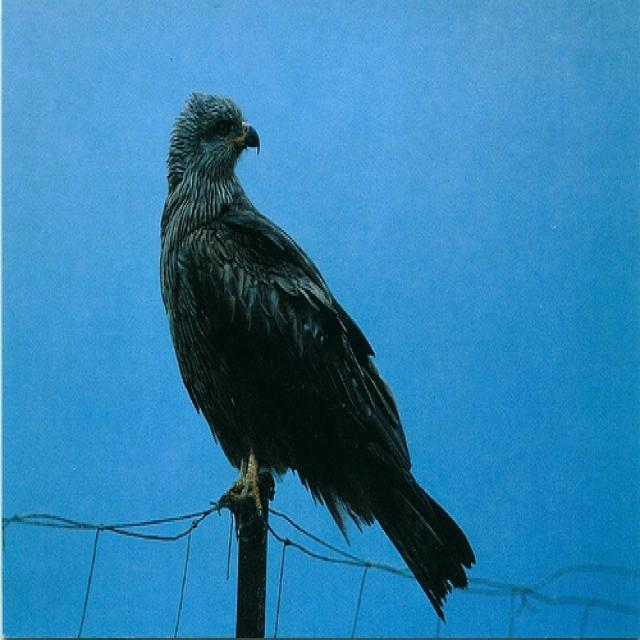bird: (156, 89, 476, 621)
